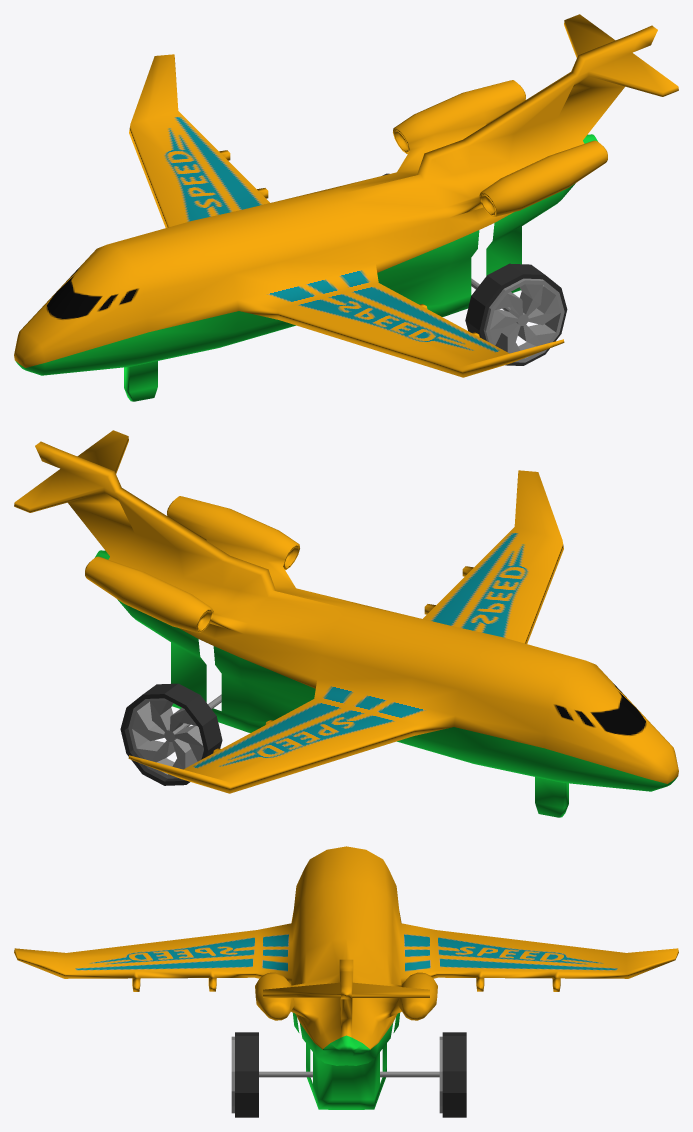
File: boeing.glb
3 renders of one model, top to bottom at view 1: azimuth 30°, elevation 25°; view 2: azimuth 150°, elevation 25°; view 3: azimuth 270°, elevation 25°, orthographic. The views are drawn at different scales.
Parts seen in each view (by area): view 1: AVIAO, roda, pneu; view 2: AVIAO, roda, pneu; view 3: AVIAO, pneu, roda.
Boxes of the visible parts, box(x1,y1,x2,y2) form: AVIAO: box(14, 14, 678, 401); roda: box(471, 278, 564, 362); pneu: box(382, 173, 567, 365); AVIAO: box(14, 430, 678, 817); roda: box(128, 694, 221, 778); pneu: box(120, 683, 222, 785); AVIAO: box(14, 846, 678, 1109); pneu: box(235, 1032, 466, 1117); roda: box(231, 1036, 442, 1113).
Bounding box in the file's own units: 11.48 × 4.25 × 12.32.
Materials: 3 (1 with a texture image).
